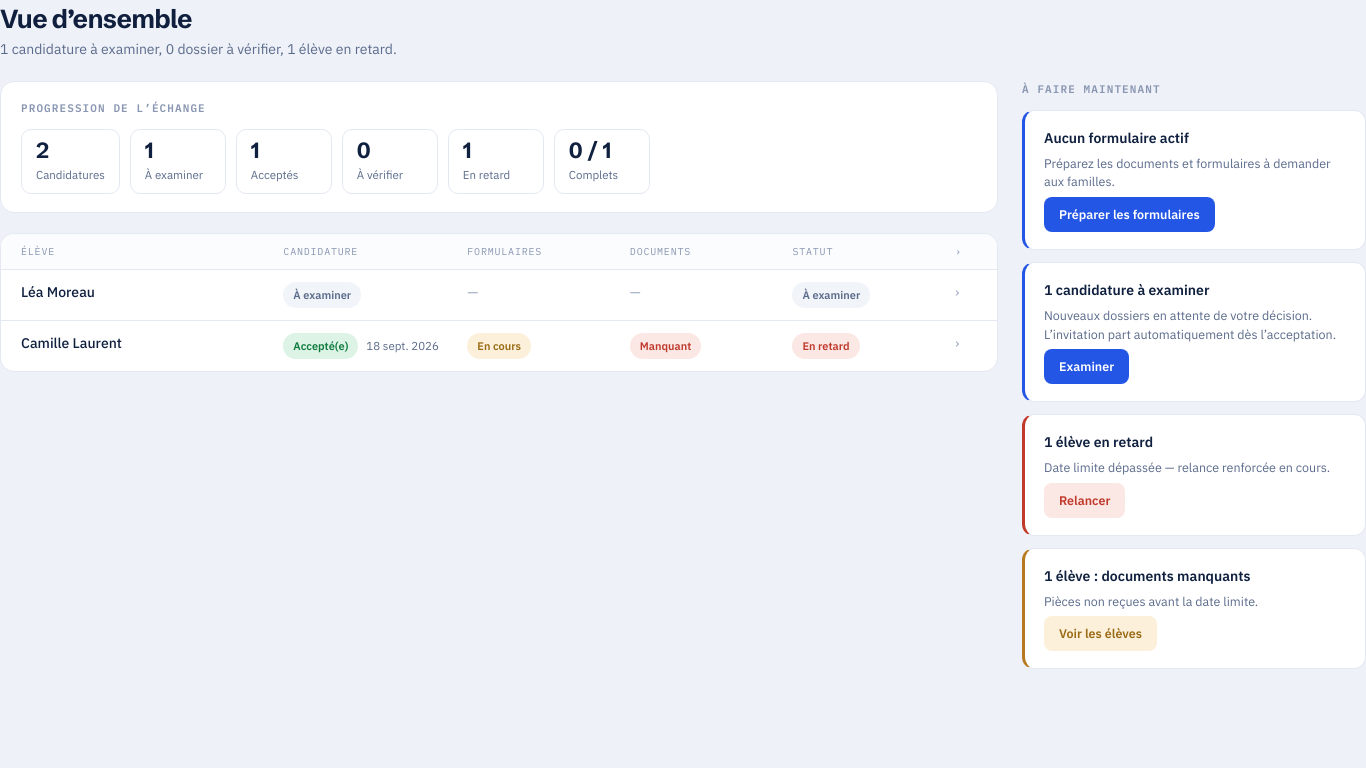
Test: OverviewView — unified lifecycle table › enrolled row click opens the checklist drawer — with no application branch
Click the text "Camille Laurent" at (71, 343), box left=21, top=334, right=122, bottom=352
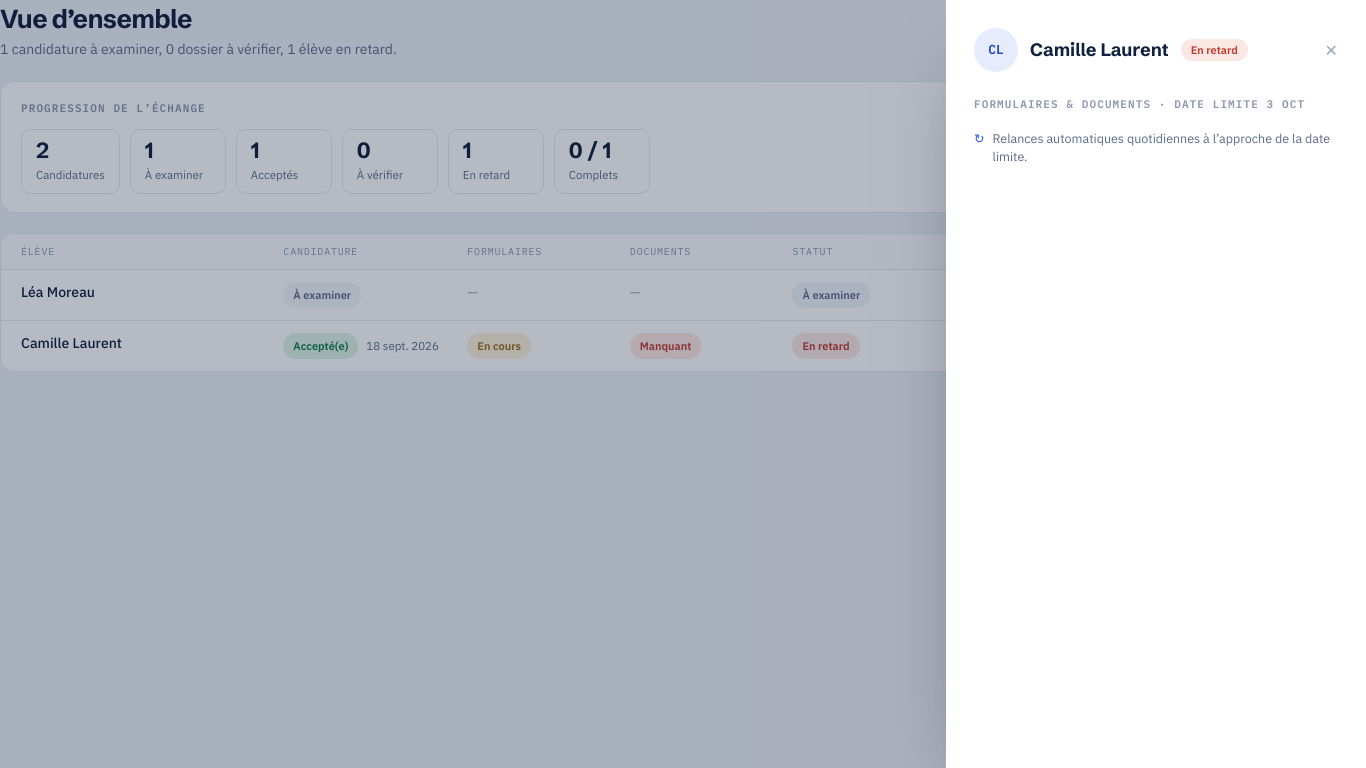
Check: the text "Formulaires & documents · date limite 3 oct" is shown, box left=974, top=96, right=1338, bottom=112
